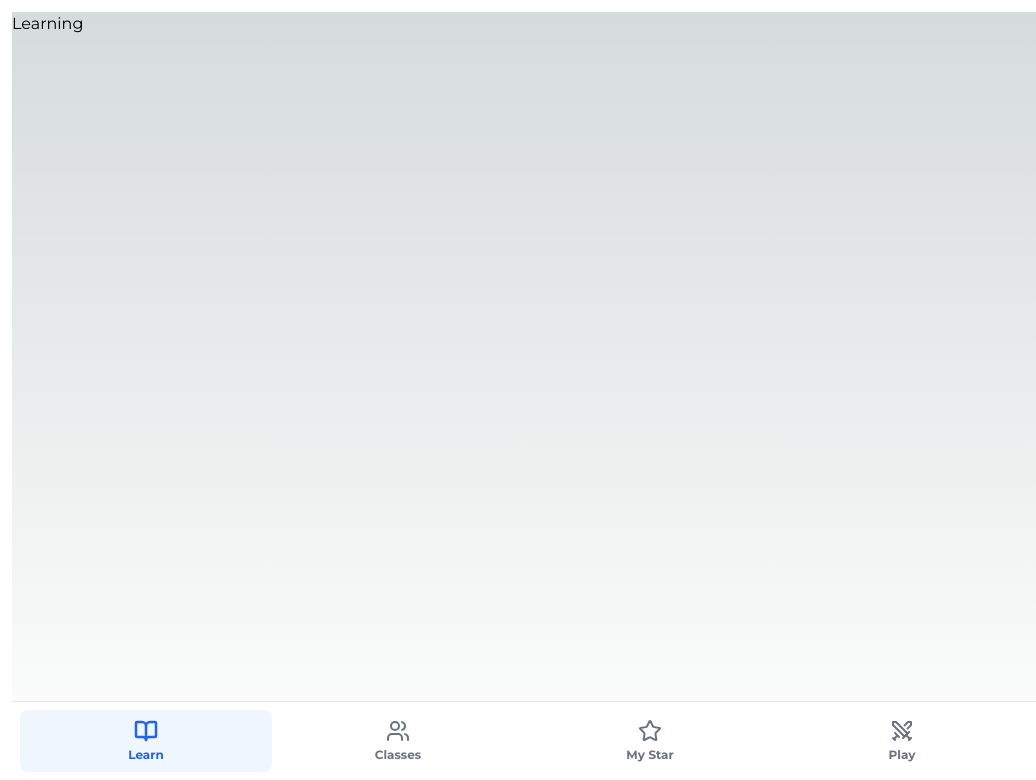
Test: #744 — student class memberships › navigates from Classes to an honest empty state and the join form
Click the button with test id "nav-classes" at {"x": 398, "y": 741}, box left=272, top=710, right=524, bottom=772
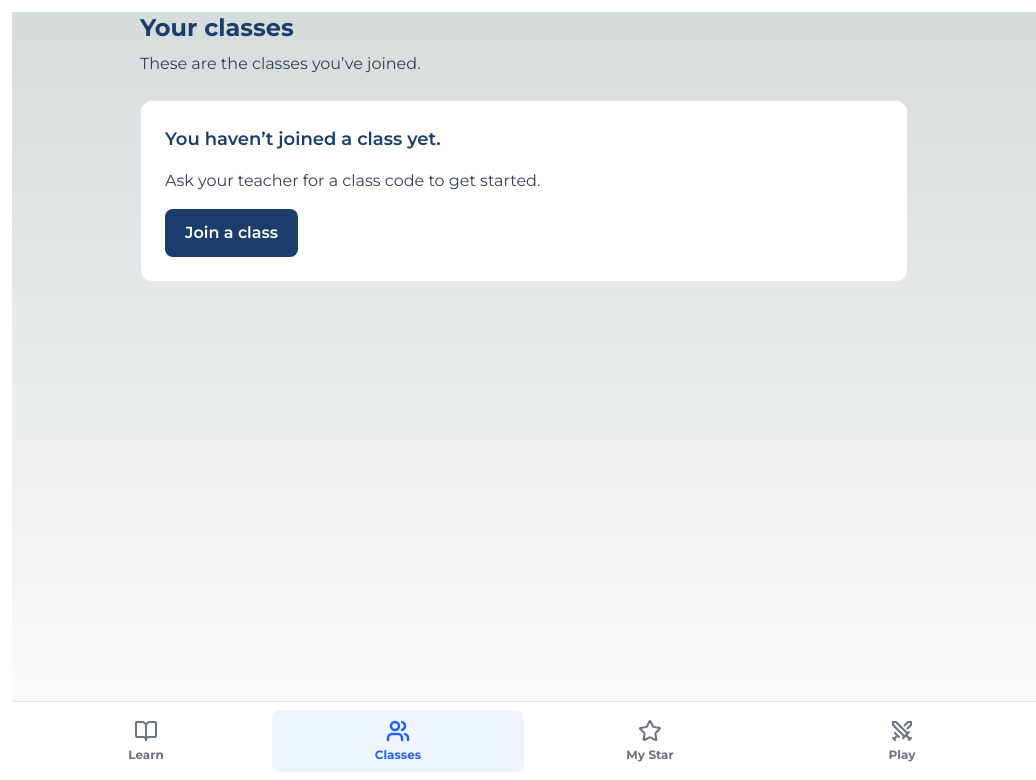
Now the text "You haven’t joined a class yet." is shown, box left=165, top=128, right=441, bottom=150
Click the link "Join a class" at {"x": 231, "y": 233}, box left=165, top=209, right=298, bottom=257
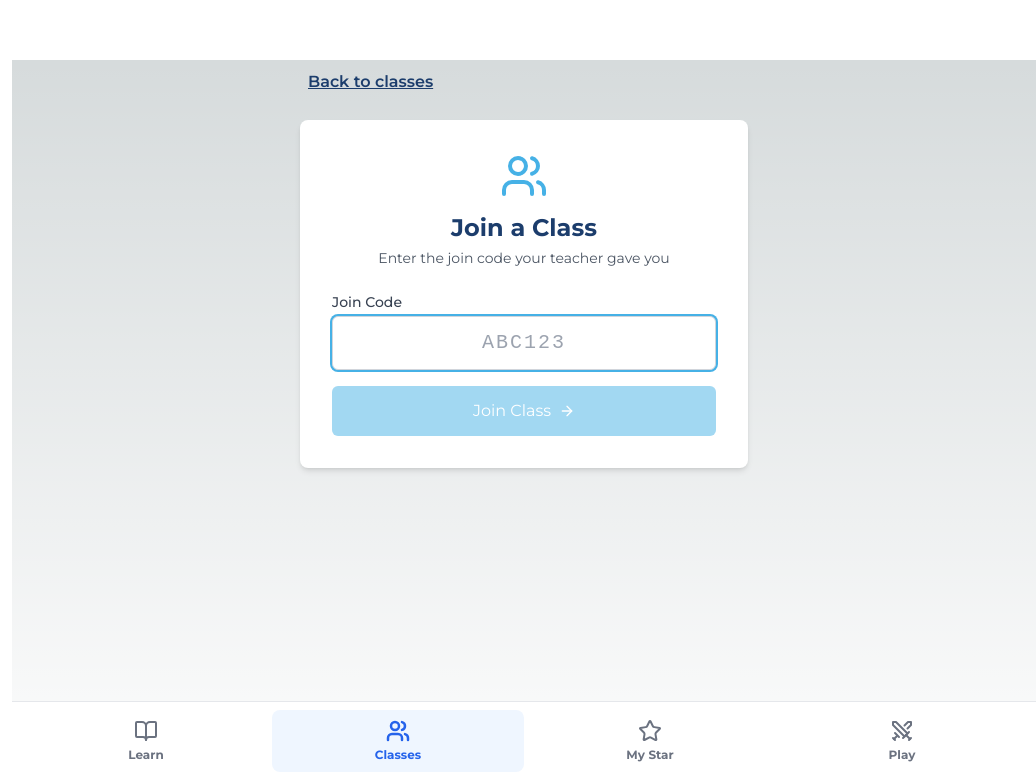
Now the field labelled "Join Code" is shown, box left=332, top=316, right=716, bottom=370
